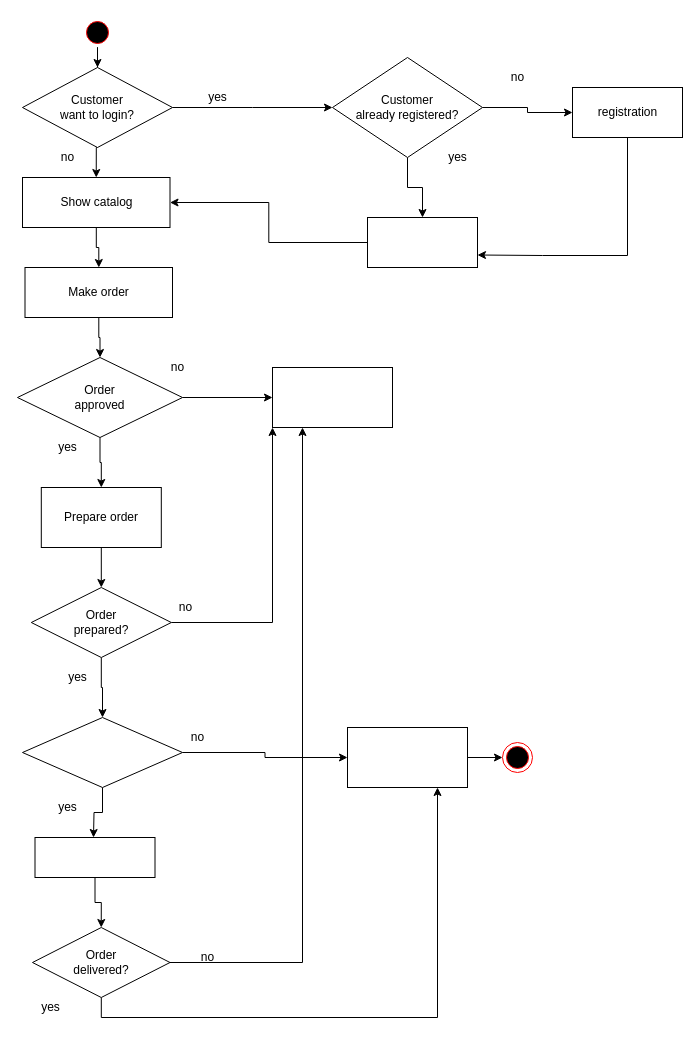
Some shapes in this 700 by 1043 pixel diagram are drawn without their labels. Here are the shapes that lost their labels. From the top down, the box of each, then its label:
(366, 216, 478, 268): login
(272, 366, 392, 428): notify customer
(22, 716, 182, 788): Order need delivery?
(346, 726, 468, 788): payment
(34, 836, 155, 878): Delivery
